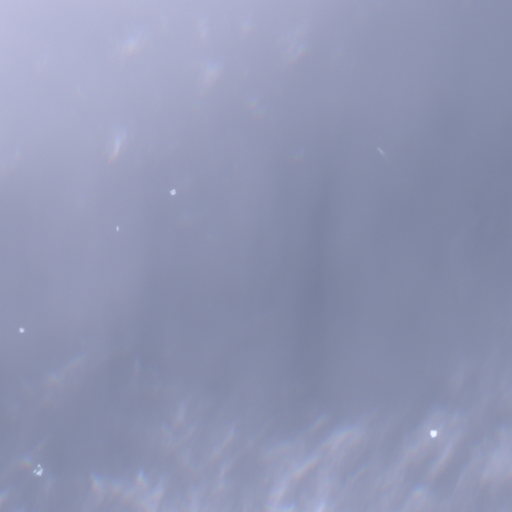Iceberg: (430, 430, 436, 437), (36, 468, 42, 475), (170, 189, 175, 194), (20, 328, 23, 332), (37, 464, 40, 466), (33, 469, 35, 472), (117, 226, 118, 230)
